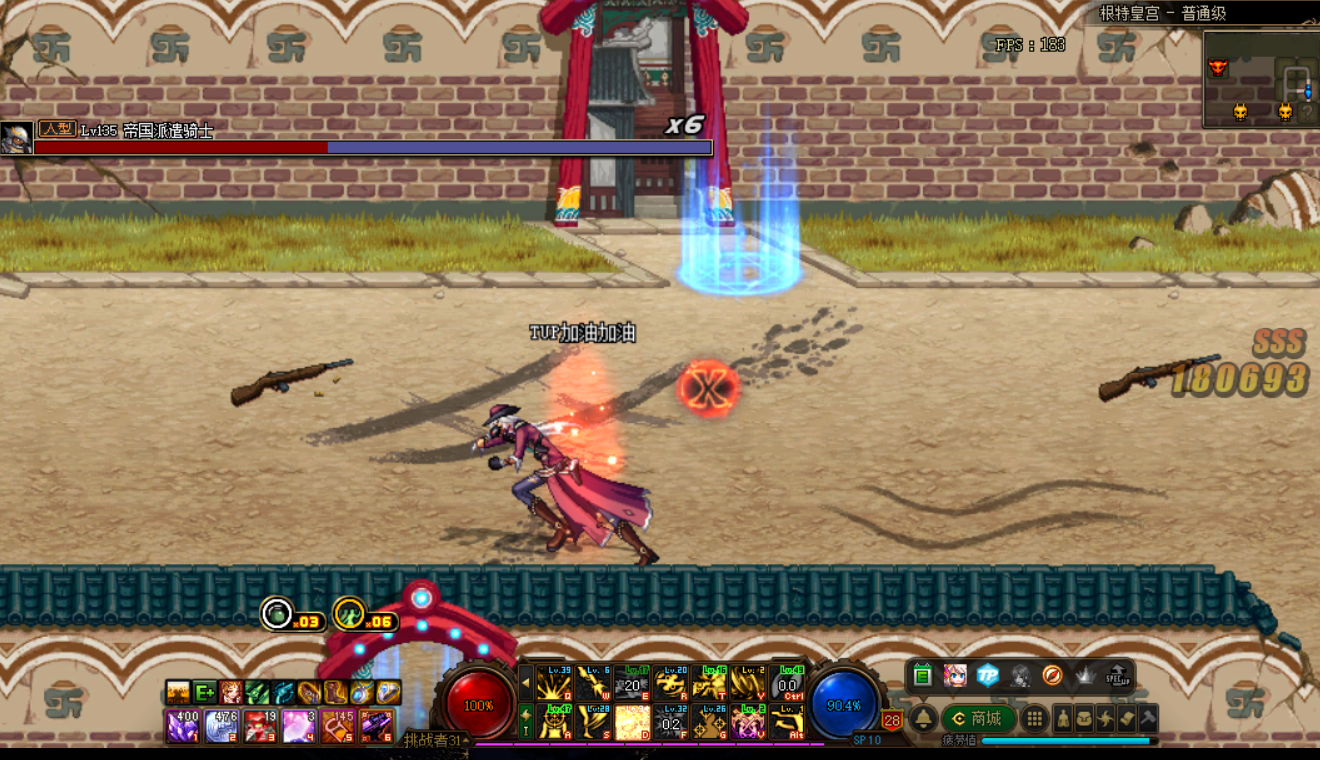warrior: (454, 392, 684, 571)
